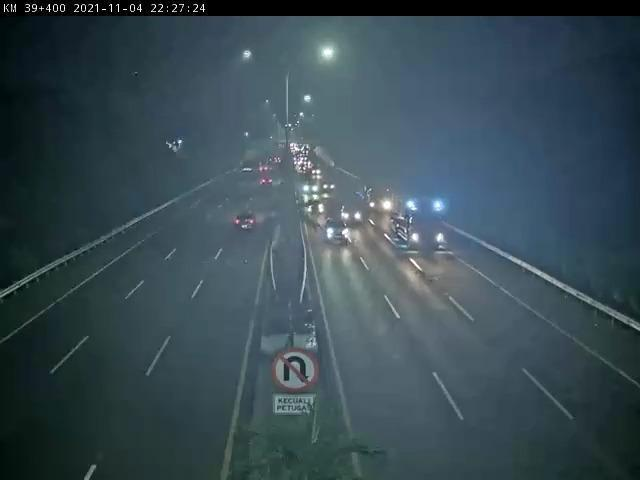car: (324, 217, 347, 242), (234, 212, 260, 232), (342, 204, 362, 223)
truck: (390, 191, 446, 256), (355, 185, 393, 215), (307, 199, 325, 215)
